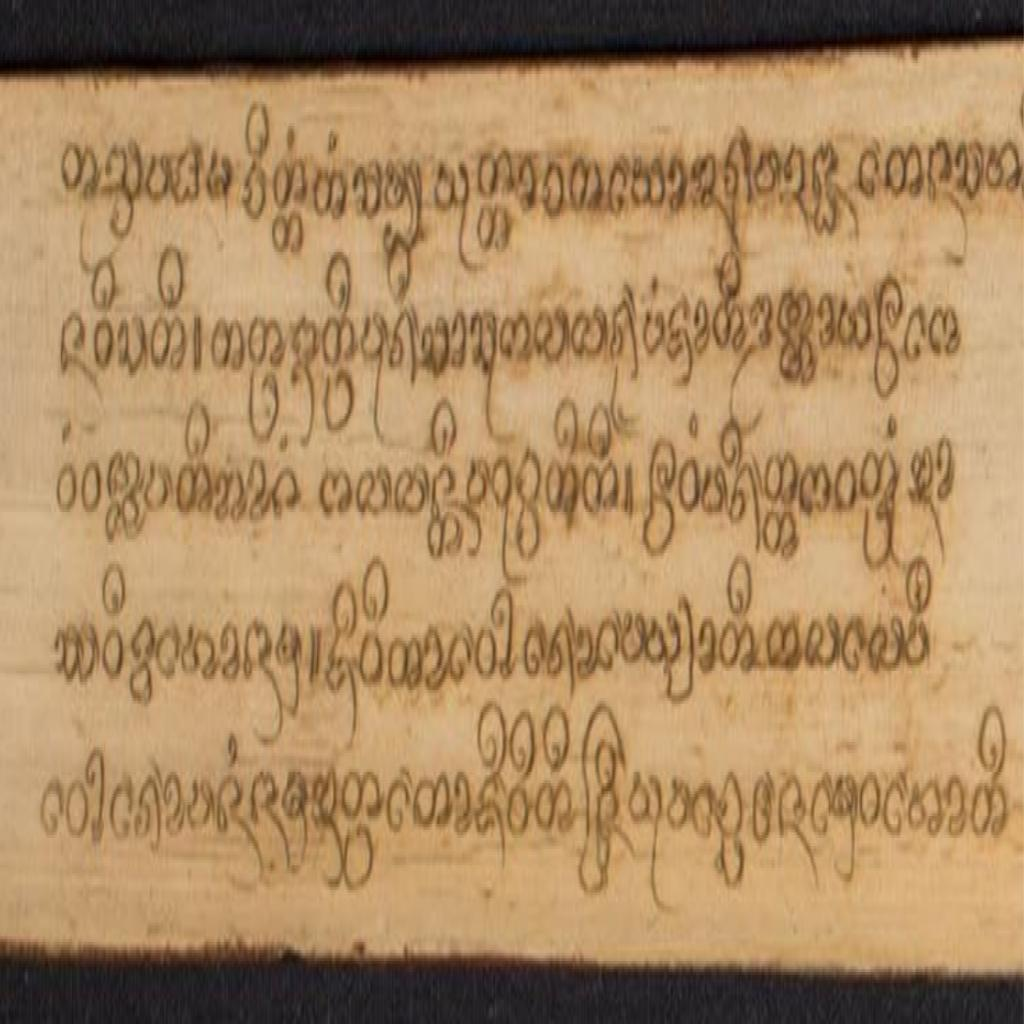LN035: (102, 623, 126, 688)
